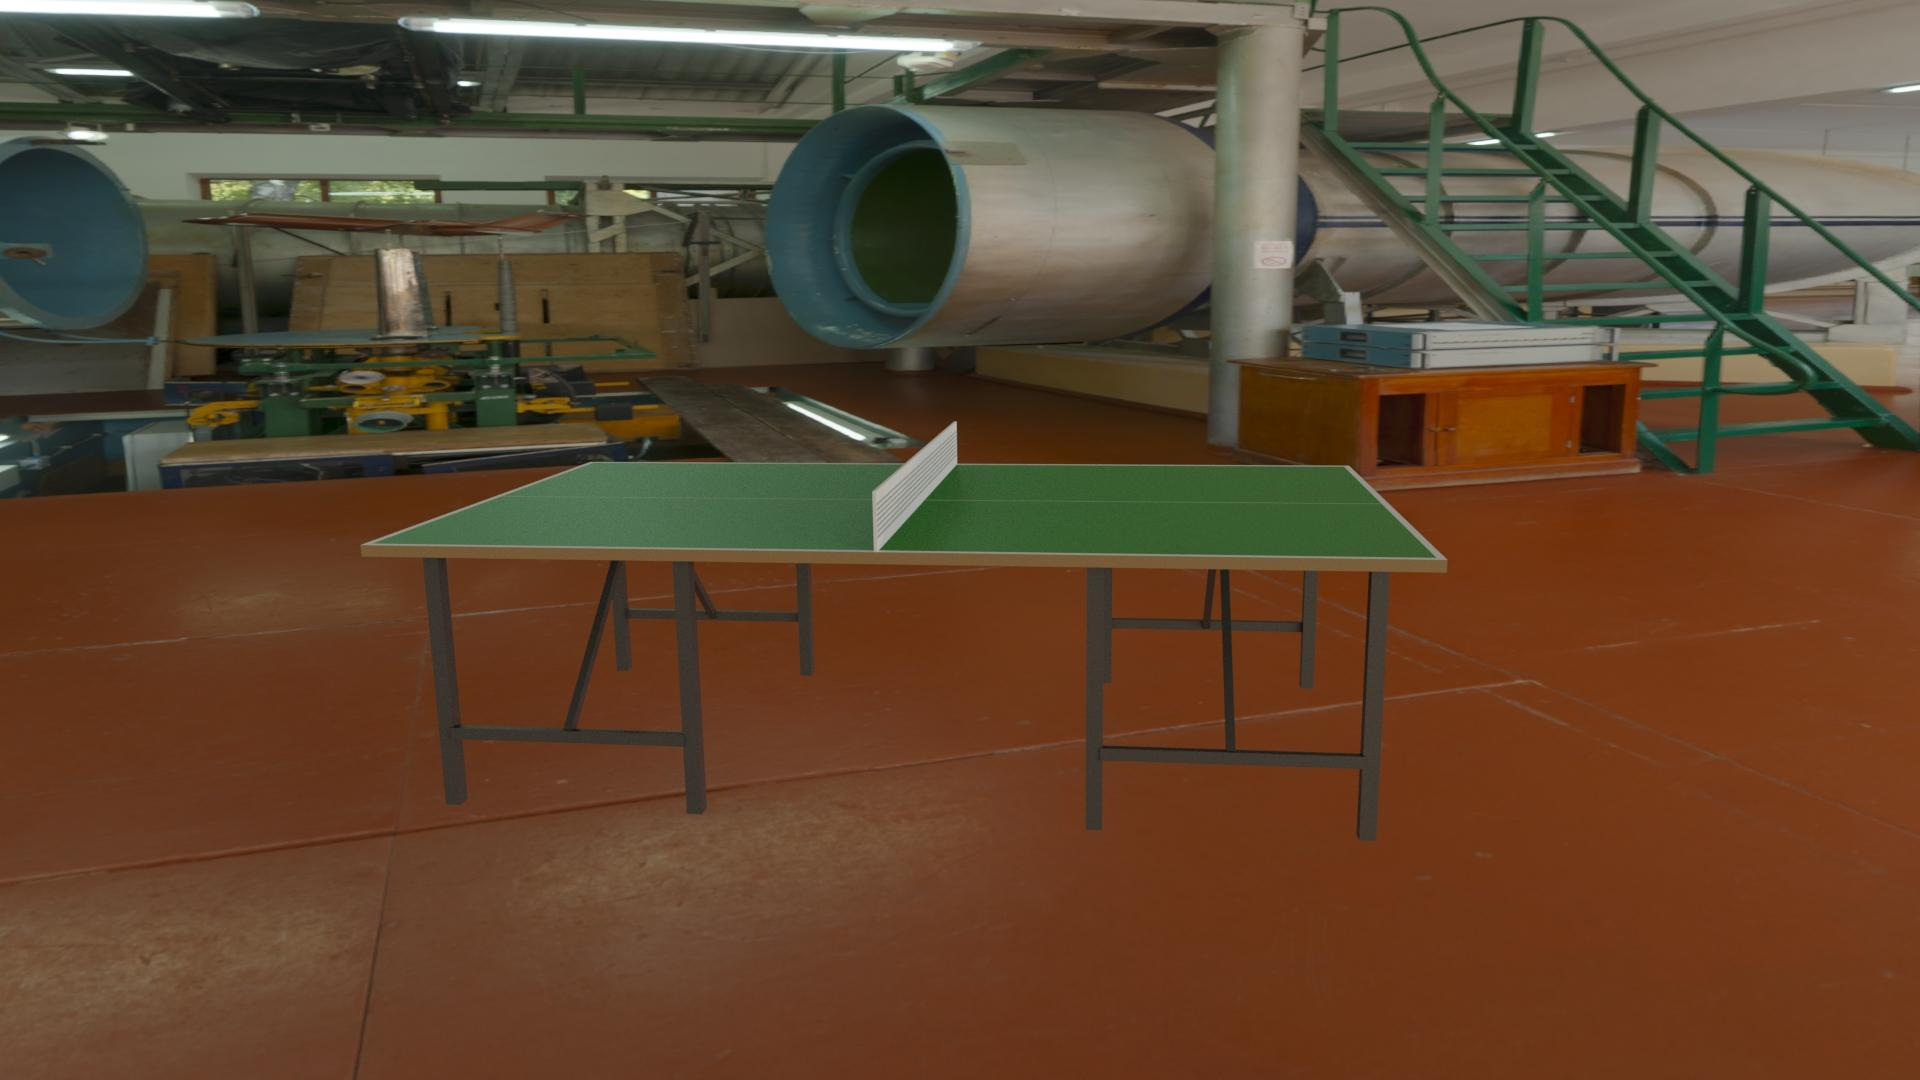table: (372, 463, 1437, 558)
